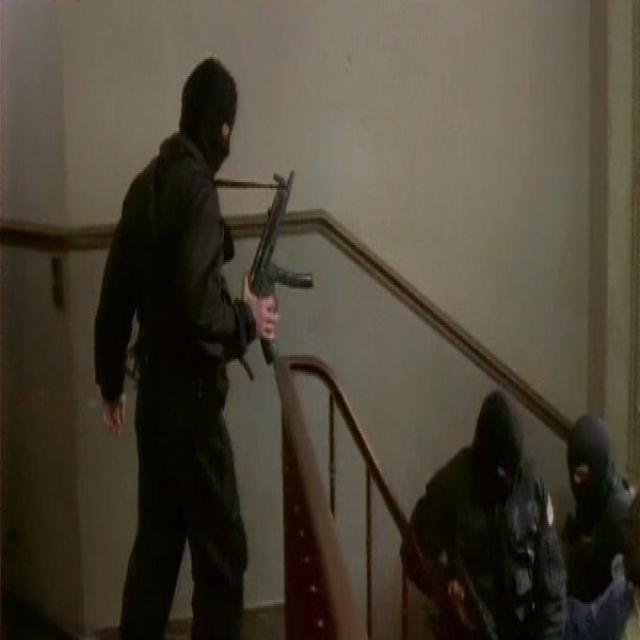rifle: (241, 162, 317, 367)
